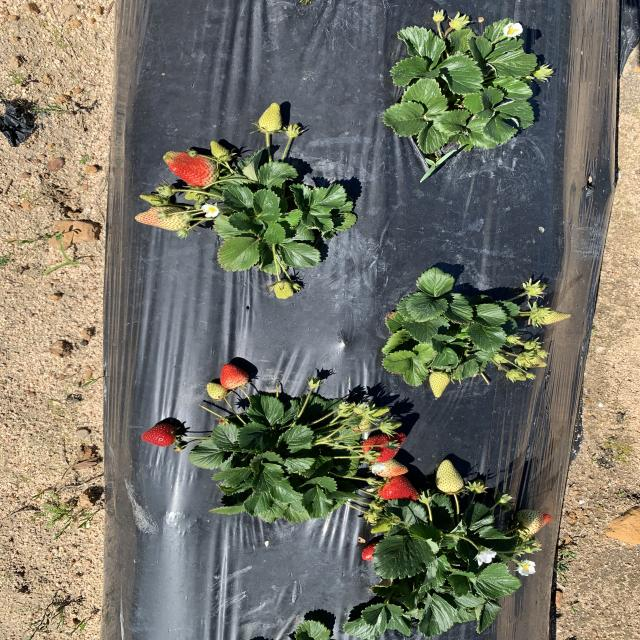unripe: (162, 151, 220, 183), (361, 430, 406, 462), (375, 475, 423, 504), (361, 537, 402, 561), (140, 423, 179, 446), (220, 363, 248, 388)
